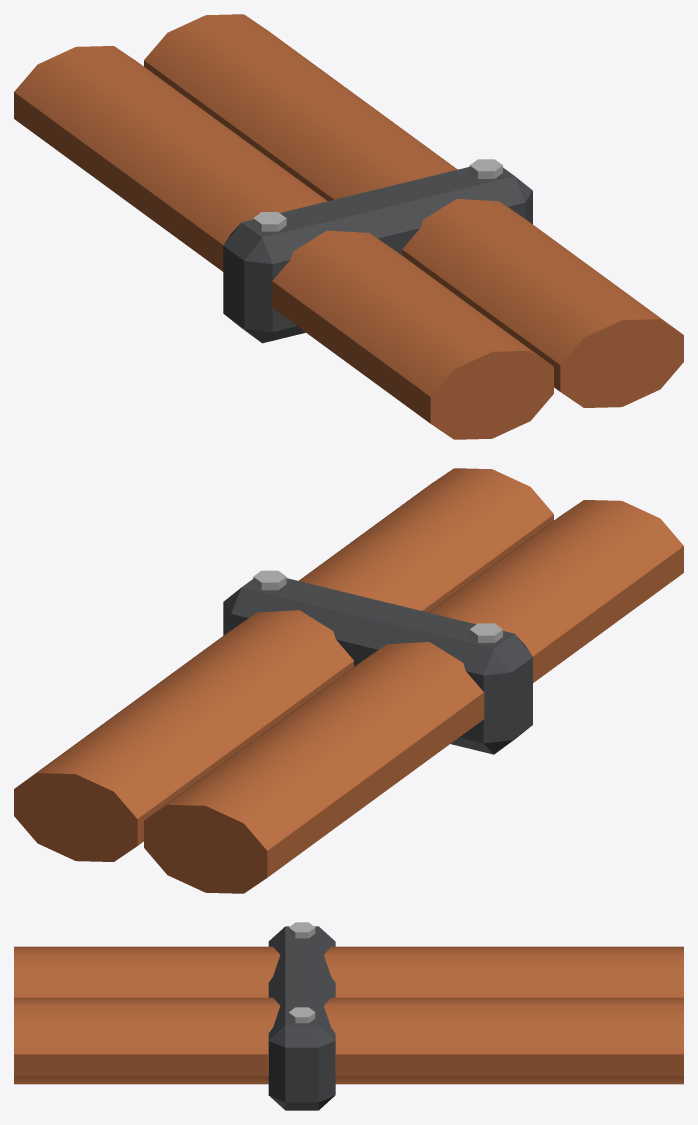
File: heat-pipe-straight-vertical.glb
3 views of the same model, one above another, from view 1: azimuth 30°, elevation 25°; view 2: azimuth 150°, elevation 25°; view 3: azimuth 270°, elevation 25° (orthographic). The views are drawn at different scales.
Parts seen in each view (by area): view 1: body; view 2: body; view 3: body.
Part boxes in pixels (bbox=[...]): body: bbox=[14, 14, 683, 439]; body: bbox=[14, 468, 683, 893]; body: bbox=[14, 922, 683, 1110].
Size of the model in its own units: 0.4 by 0.15 by 1.
